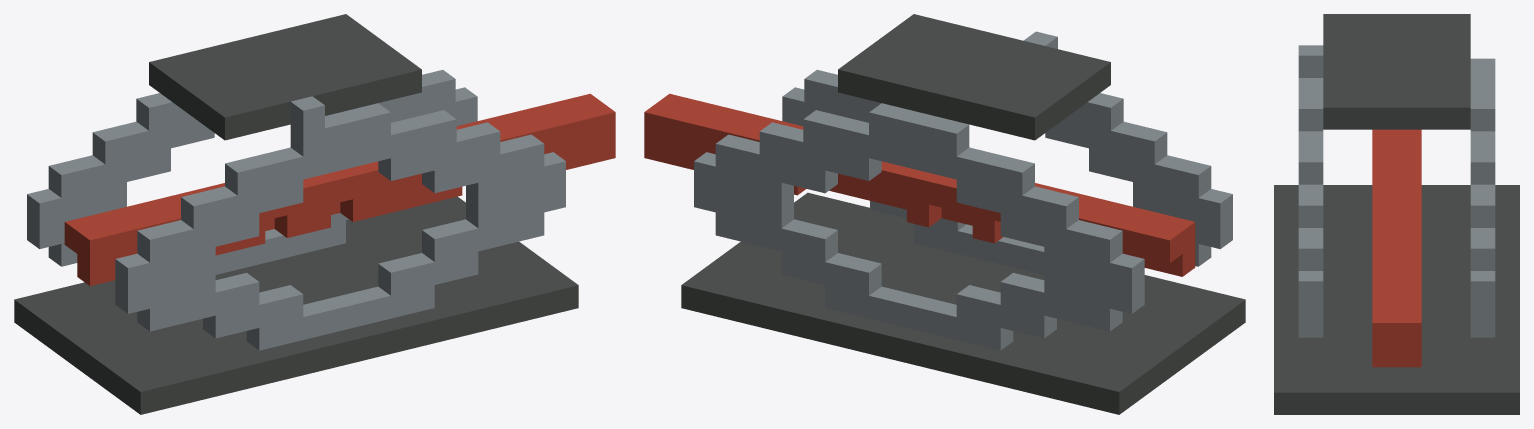
The model's file is scissor_jack.glb.
3 renders of one model, left to right at view 1: azimuth 30°, elevation 25°; view 2: azimuth 150°, elevation 25°; view 3: azimuth 270°, elevation 25°, orthographic. The views are drawn at different scales.
Parts seen in each view (by area): view 1: jack:scissorJack; view 2: jack:scissorJack; view 3: jack:scissorJack.
Boxes of the visible parts, x1,y1,x2,y2 form: jack:scissorJack: (14,14,615,414); jack:scissorJack: (644,14,1245,414); jack:scissorJack: (1274,14,1519,414).
Bounding box in the file's own units: 0.24 × 0.11 × 0.1.
